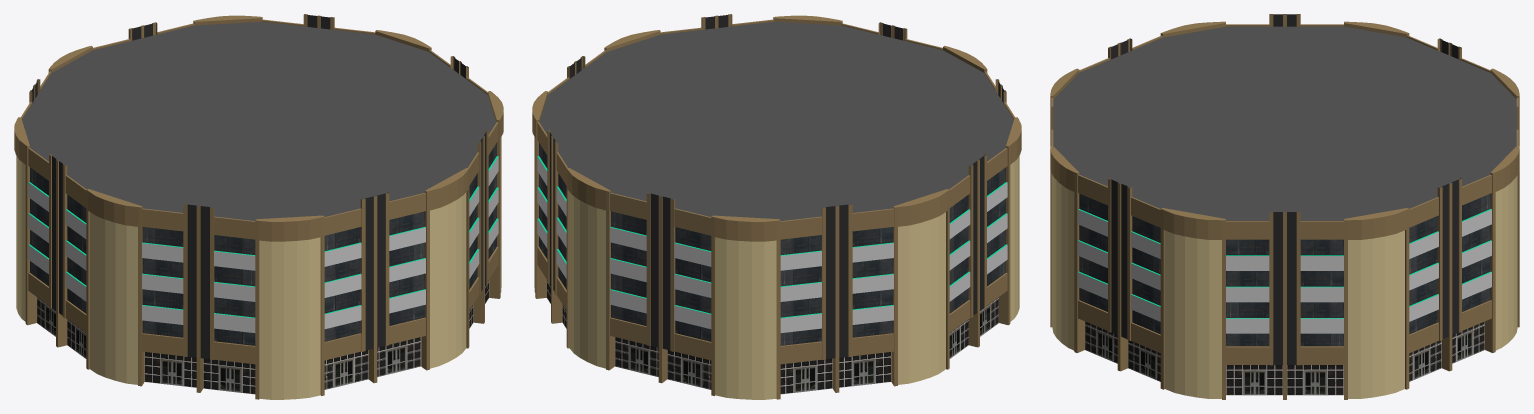
3 renders of one model, left to right at view 1: azimuth 30°, elevation 25°; view 2: azimuth 150°, elevation 25°; view 3: azimuth 270°, elevation 25°, orthographic.
Parts seen in each view (by area): view 1: QD-07; view 2: QD-07; view 3: QD-07.
Part boxes in pixels (box(x1,y1,x2,y2)): QD-07: box(14, 14, 503, 399); QD-07: box(532, 14, 1021, 399); QD-07: box(1050, 14, 1519, 399).
Size of what is drawn, in the model's own units: 40.69 by 17.96 by 40.69.
